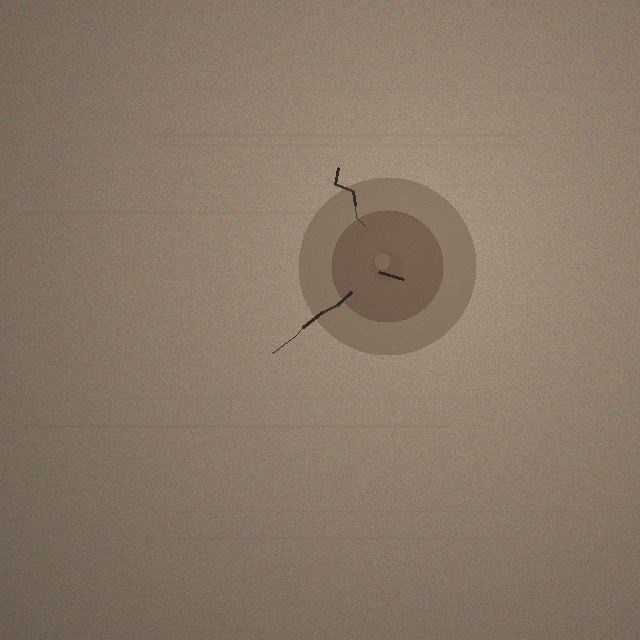crack: (298, 177, 476, 355)
